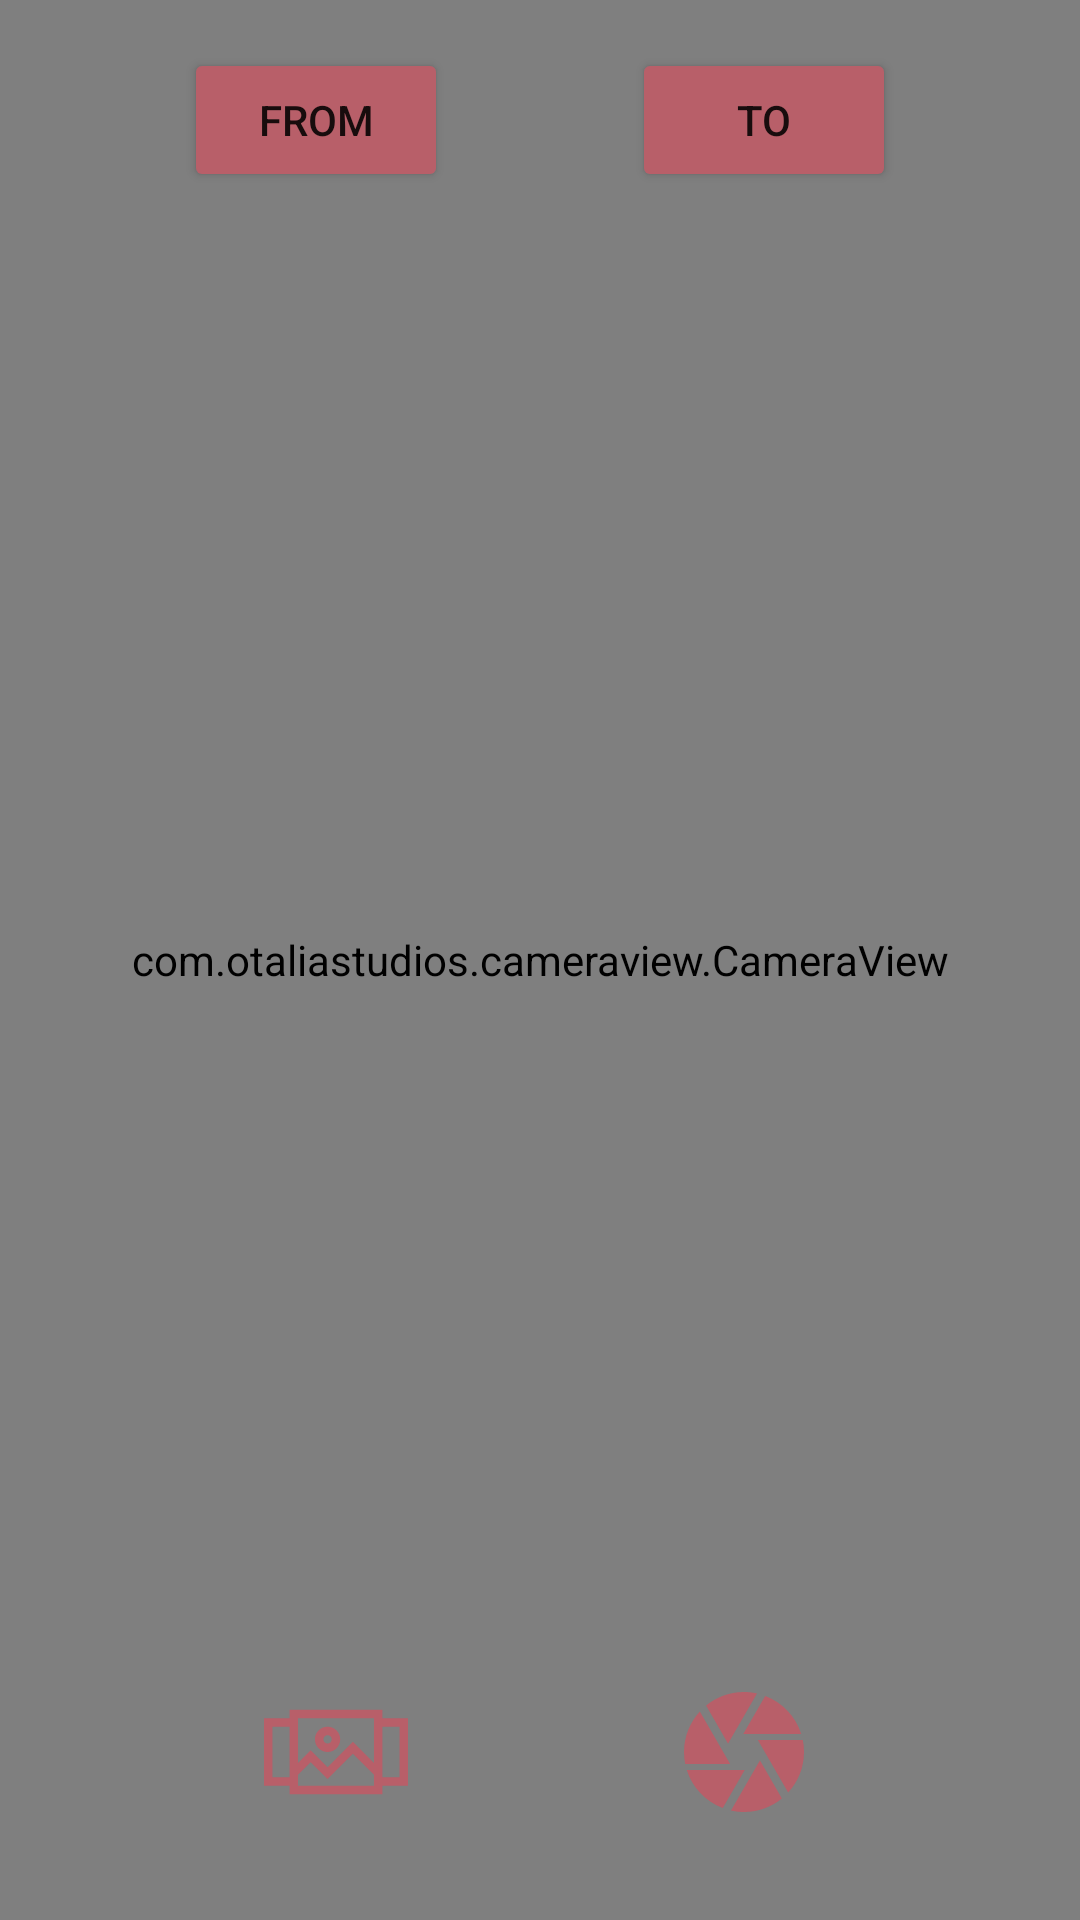

Named icons in this screenshot (1080 × 1920) and their bounding boxes, bbox=[x1, y1, x2, y2]:
gallery: bbox=[264, 1710, 408, 1794]
